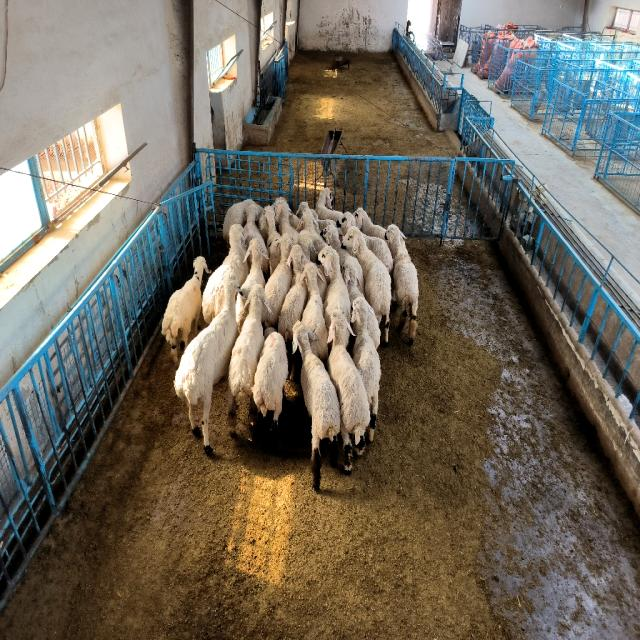sheep: (175, 273, 239, 453), (292, 322, 340, 490), (328, 310, 370, 473), (228, 283, 268, 436), (342, 227, 391, 342), (161, 257, 210, 362), (202, 223, 249, 324), (252, 327, 289, 452), (351, 298, 381, 441), (385, 225, 418, 344), (324, 225, 364, 302), (278, 243, 308, 342), (261, 233, 292, 328), (301, 262, 329, 363), (236, 238, 266, 329), (319, 245, 350, 328), (222, 200, 262, 242), (259, 205, 281, 274), (244, 203, 268, 264), (298, 207, 325, 261), (364, 235, 394, 275), (276, 198, 299, 243), (315, 187, 344, 221), (355, 208, 386, 239), (344, 265, 364, 302), (366, 302, 381, 348), (369, 310, 380, 346), (338, 212, 356, 232)
